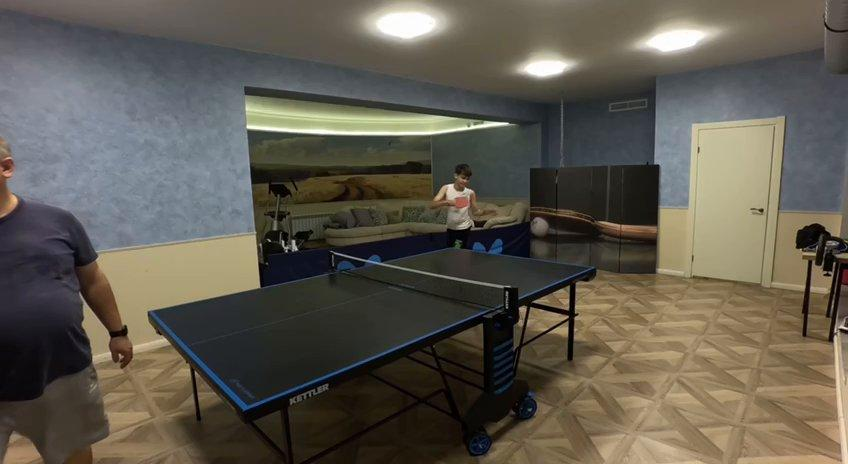Net: (330, 251, 517, 317)
Player1: (434, 165, 476, 246)
Player2: (0, 136, 132, 463)
Table: (148, 247, 595, 410)
